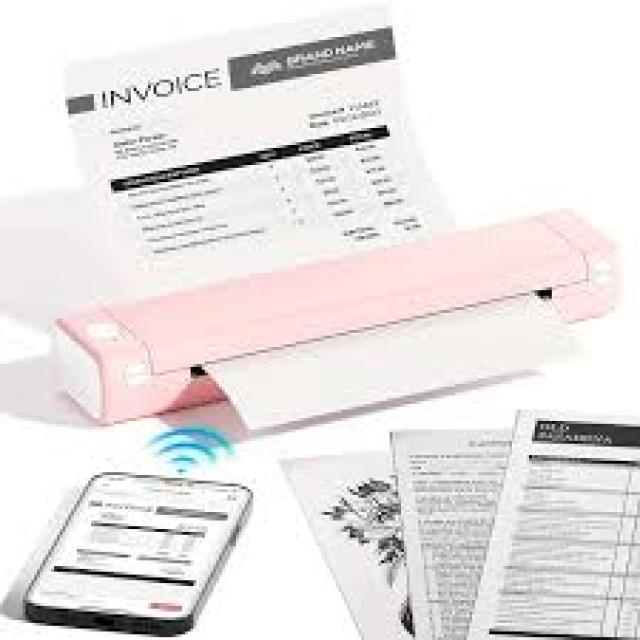printer: (48, 202, 620, 432)
